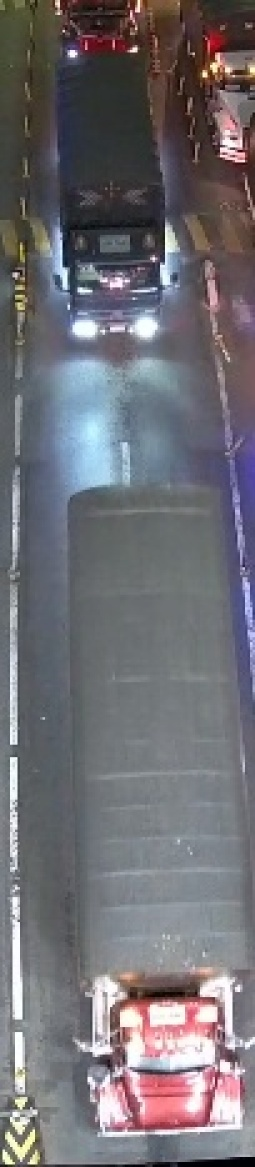truck: (68, 491, 251, 1139), (53, 56, 170, 340), (182, 5, 254, 158), (46, 1, 149, 58)
